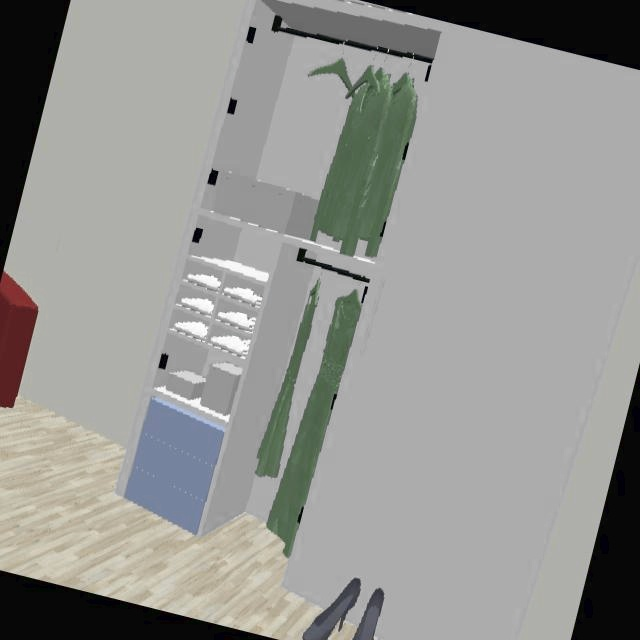sofa: (0, 271, 37, 411)
wardrobe: (116, 0, 640, 640)
